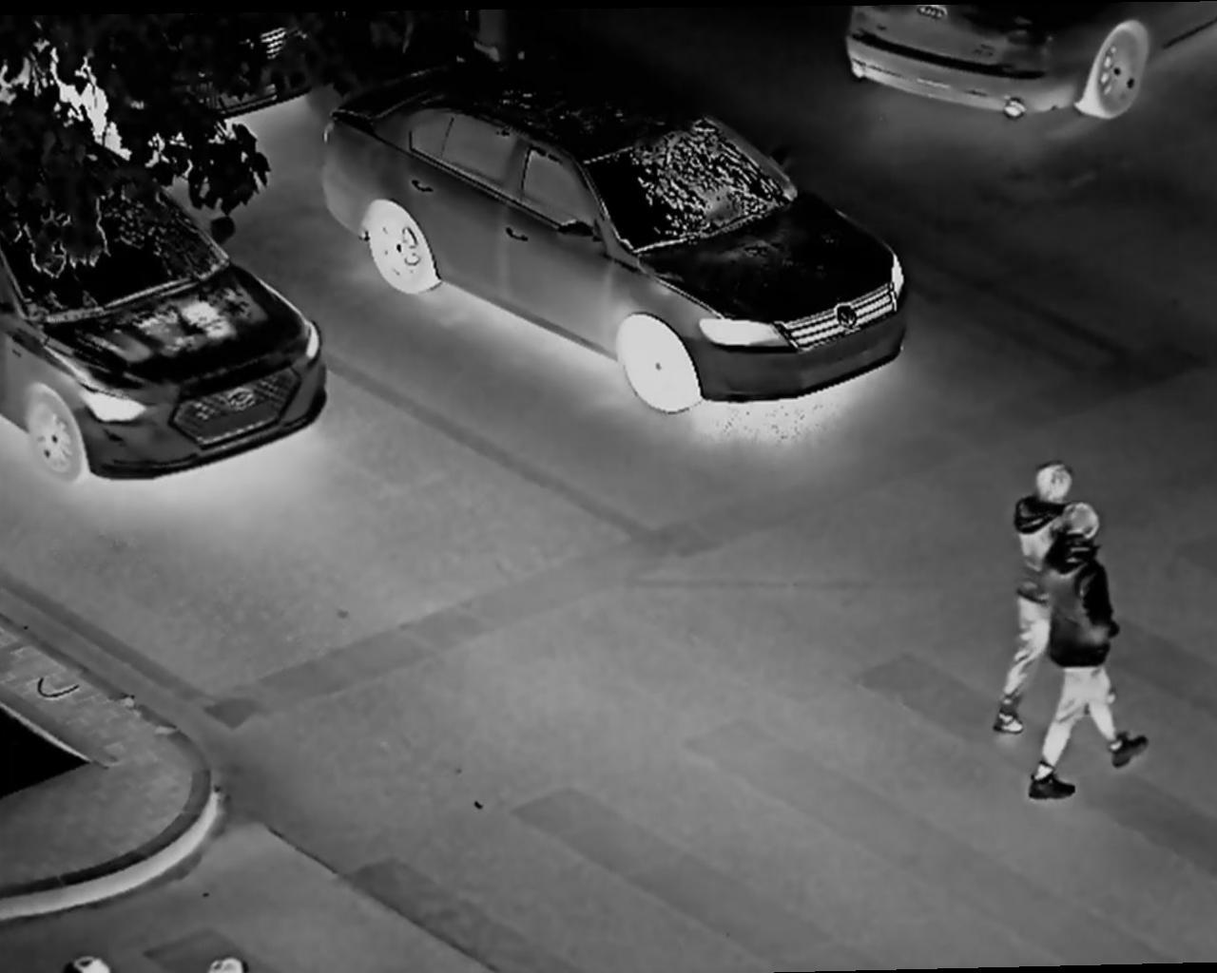person: (1040, 506, 1144, 807), (1000, 456, 1066, 714)
